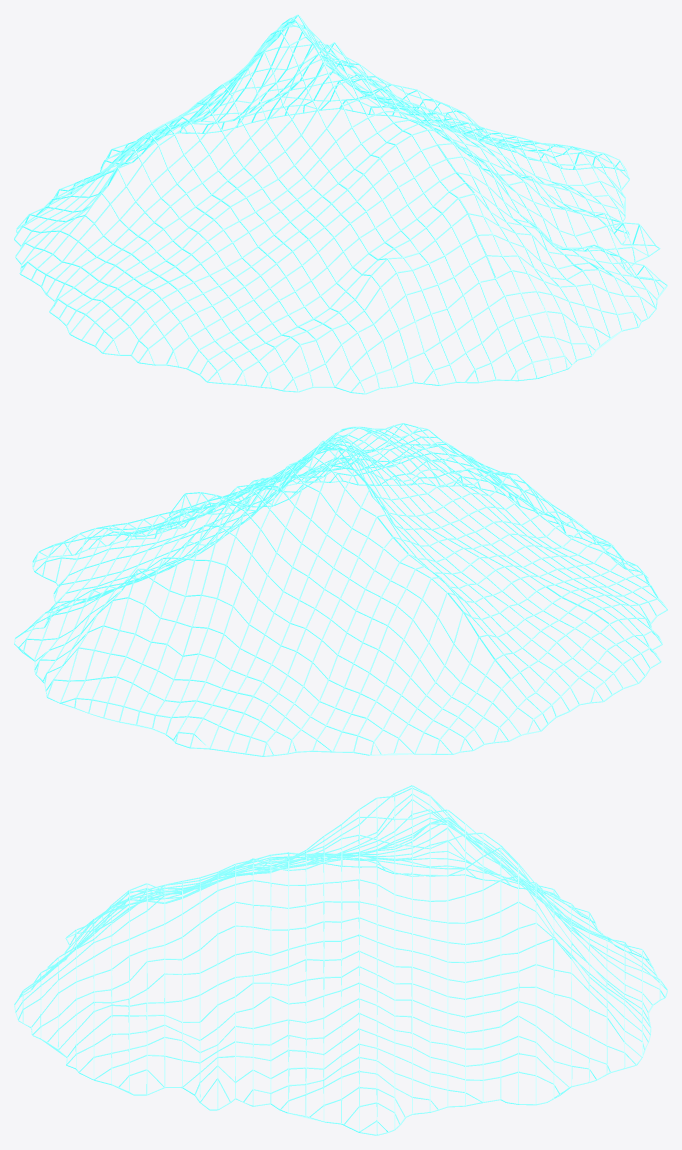
Rendered from mountains.glb.
3 views of the same model, one above another, from view 1: azimuth 30°, elevation 25°; view 2: azimuth 150°, elevation 25°; view 3: azimuth 270°, elevation 25° (orthographic). The views are drawn at different scales.
Visible parts, largest first — view 1: mount; view 2: mount; view 3: mount.
Boxes of the visible parts, bbox=[...] form: mount: bbox=[14, 14, 667, 394]; mount: bbox=[14, 423, 667, 756]; mount: bbox=[14, 785, 667, 1135].
Bounding box in the file's own units: 1478 × 514 × 1501.
